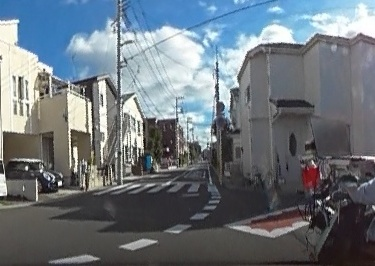person: (327, 48, 375, 243)
